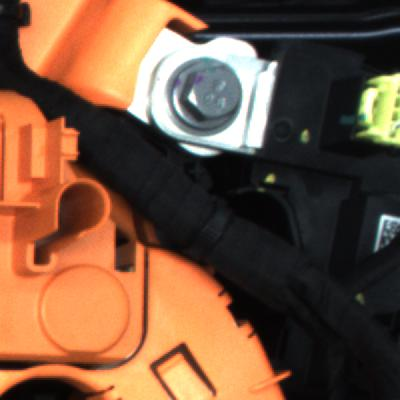nut_b: (166, 52, 263, 143)
